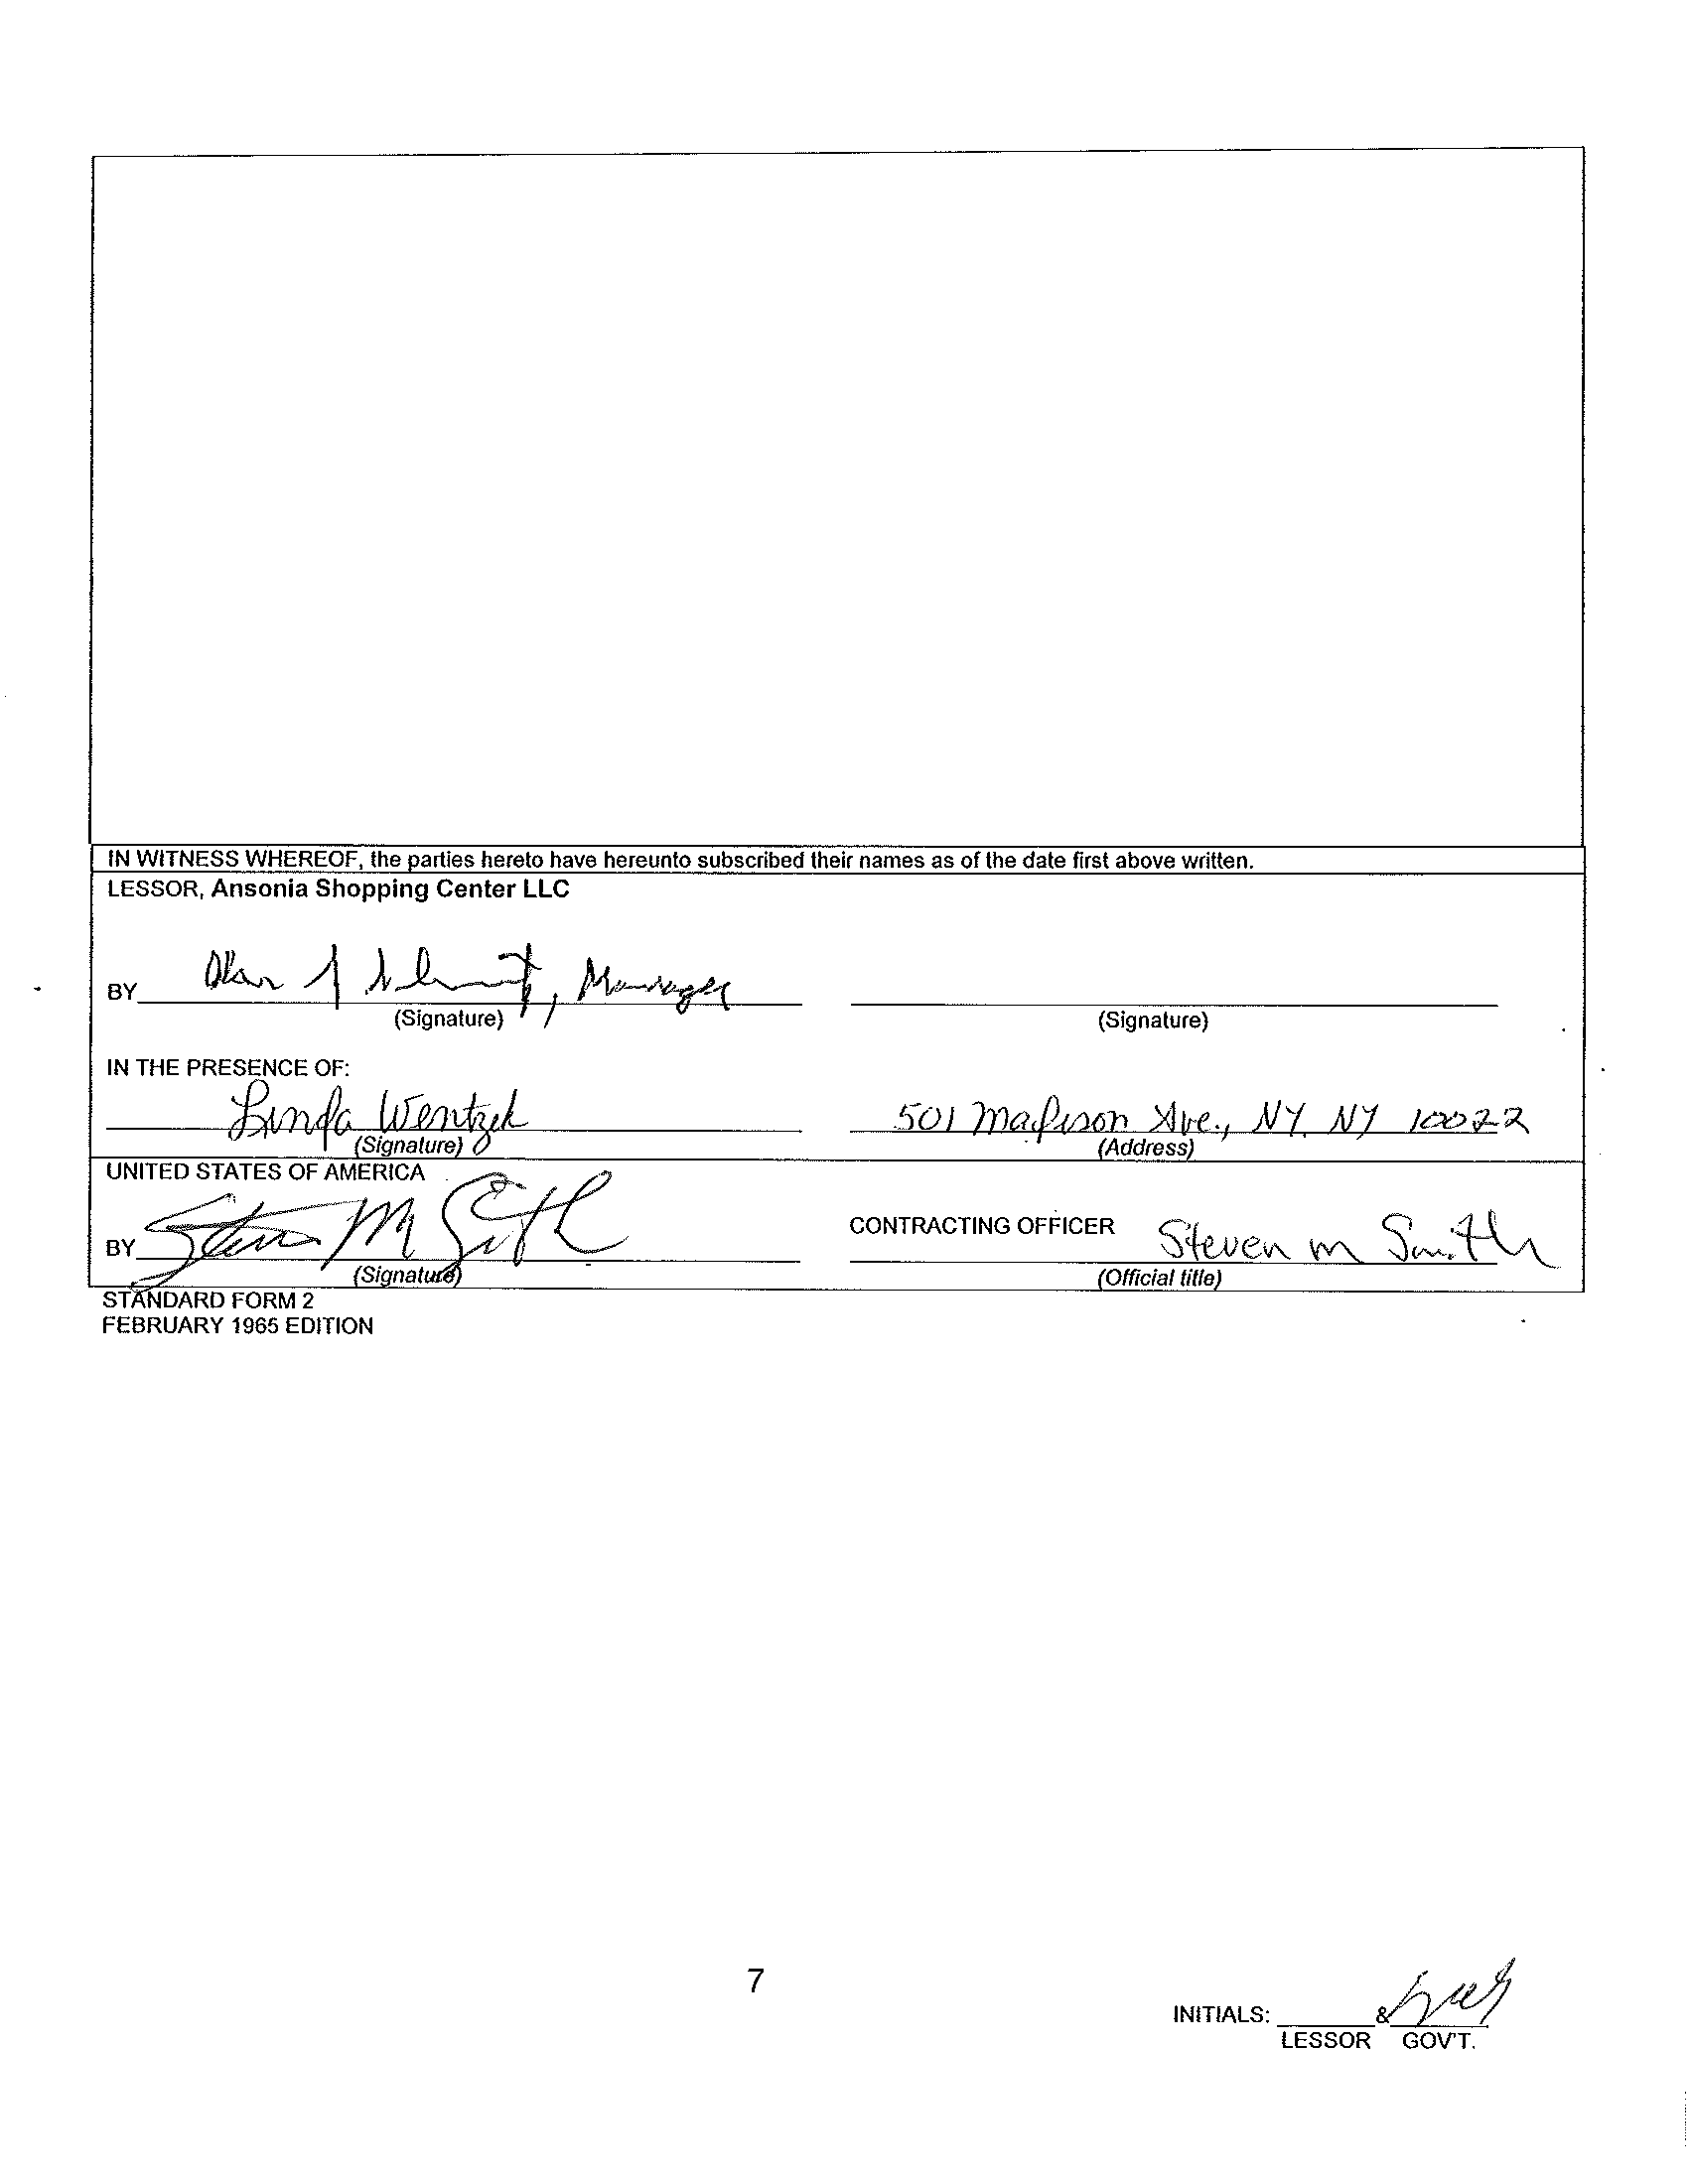handwritten: (144, 1184, 695, 1267), (890, 1096, 1552, 1136), (1148, 1213, 1564, 1269), (454, 1165, 628, 1264), (358, 938, 536, 1014), (1366, 1943, 1518, 2023), (569, 954, 734, 1010), (229, 1076, 353, 1150), (378, 1080, 532, 1129), (133, 1207, 218, 1283), (199, 941, 287, 996), (302, 938, 341, 1014), (544, 986, 562, 1032), (470, 1135, 486, 1149)
